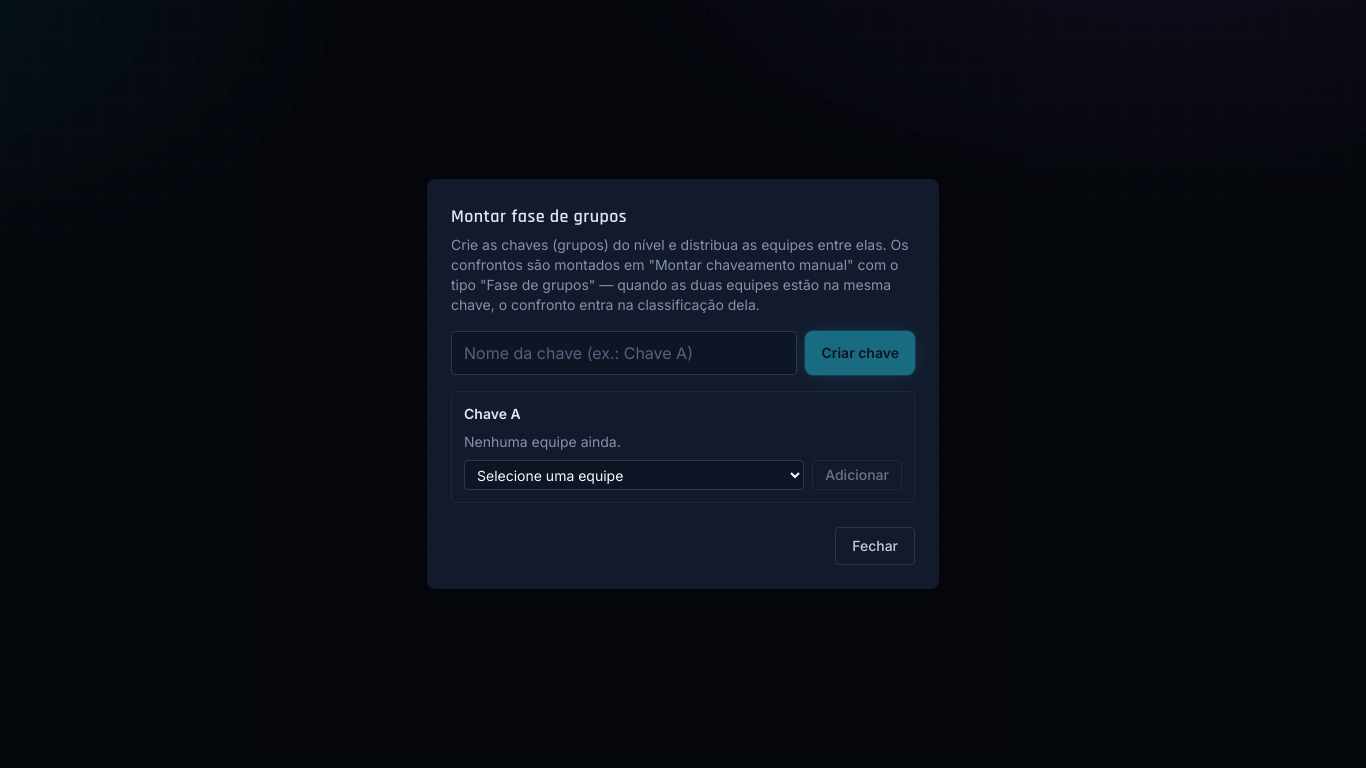
Scenario: FaseDeGruposBuilder › mostra erro quando o backend recusa adicionar equipe (ja esta em outra chave)
Select "Equipe A" in the dropdown named "adicionar equipe na chave a" at (634, 475), box [464,460,804,490]
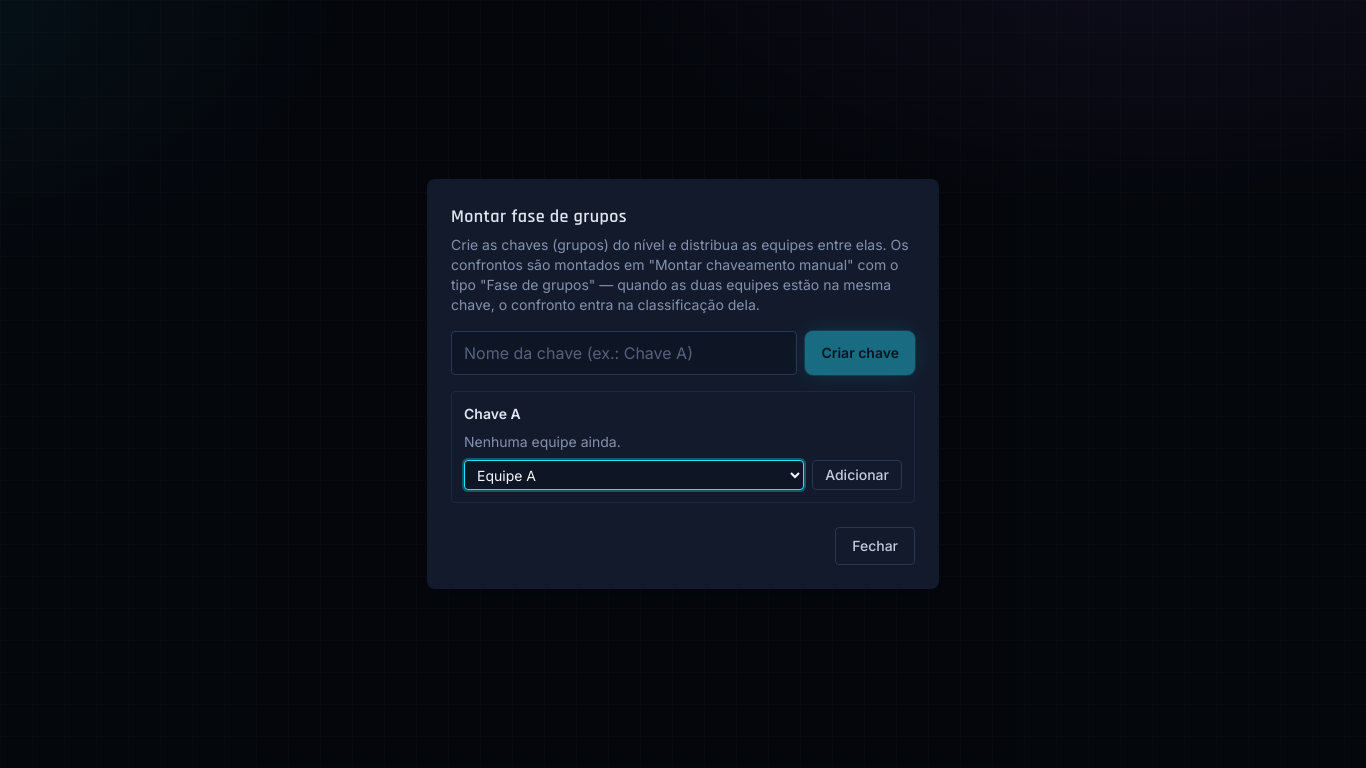
Click the button "Adicionar" at (857, 475), box [812,460,902,490]
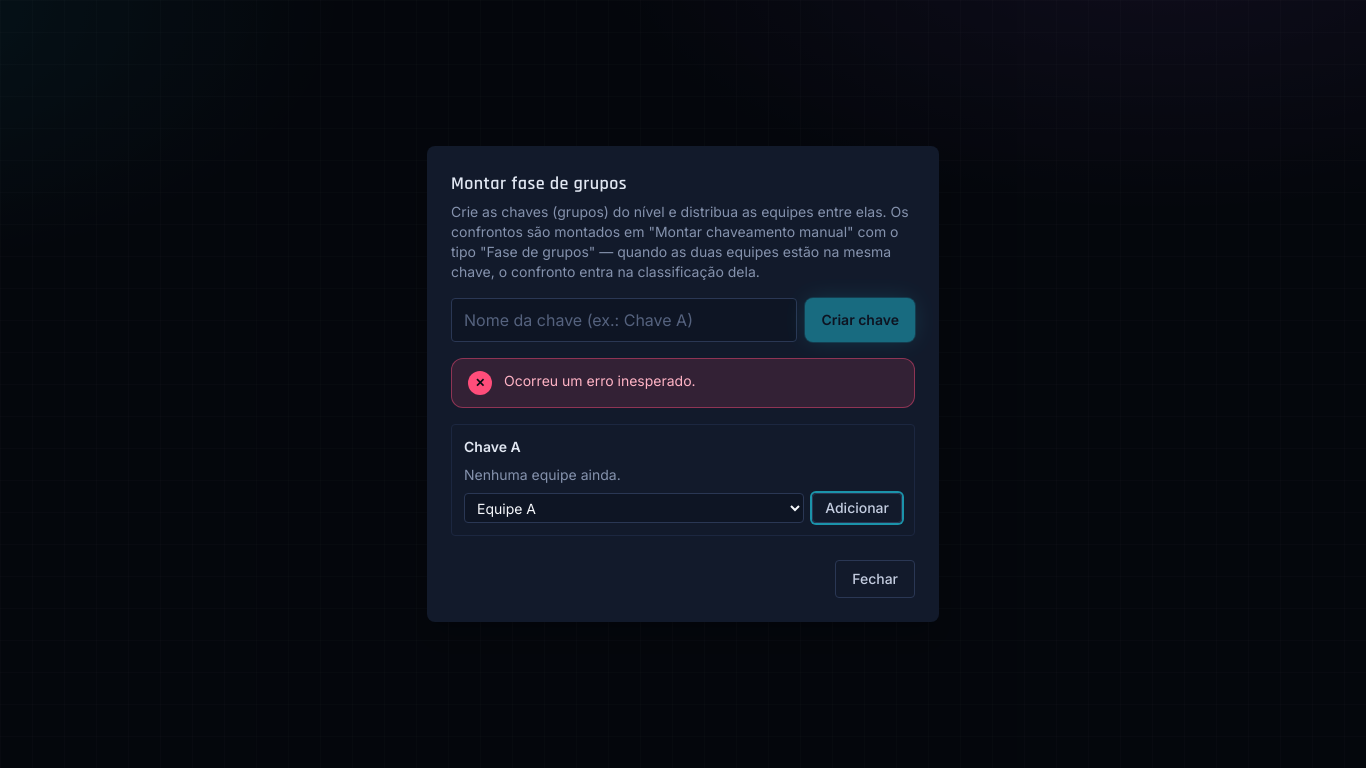
Result: the text "Ocorreu um erro inesperado." is shown at [504,372,696,389]
